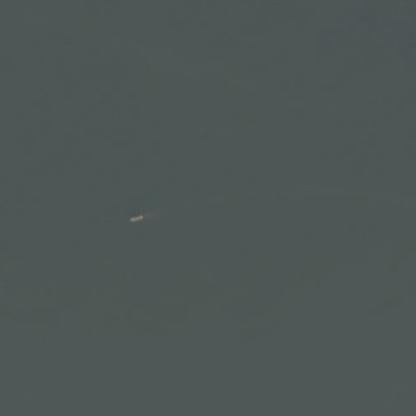ship: (134, 211, 138, 222)
